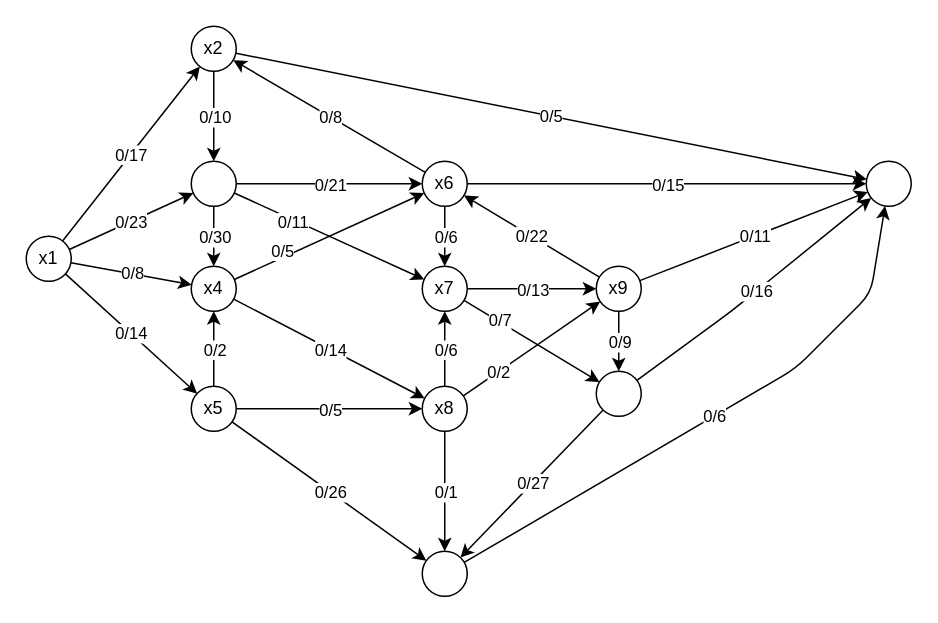
Image size: 938x623. Some labels were removed from this diagram. The shapes that lost their labels are listed below. From the top down, each one's centre as x and y in pixels, then its label:
At [213,183]: "x3".
At [888,183]: "x12".
At [618,393]: "x11".
At [444,573]: "x10".
